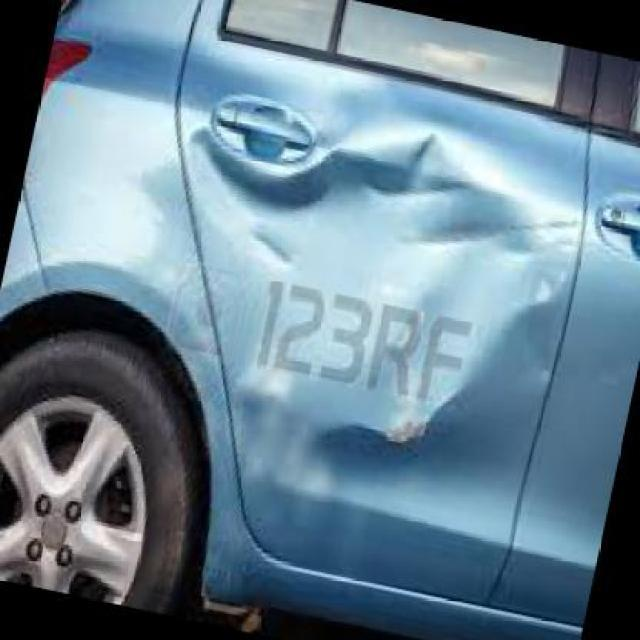dent: (291, 294, 475, 445), (405, 143, 542, 249), (337, 122, 477, 200)
